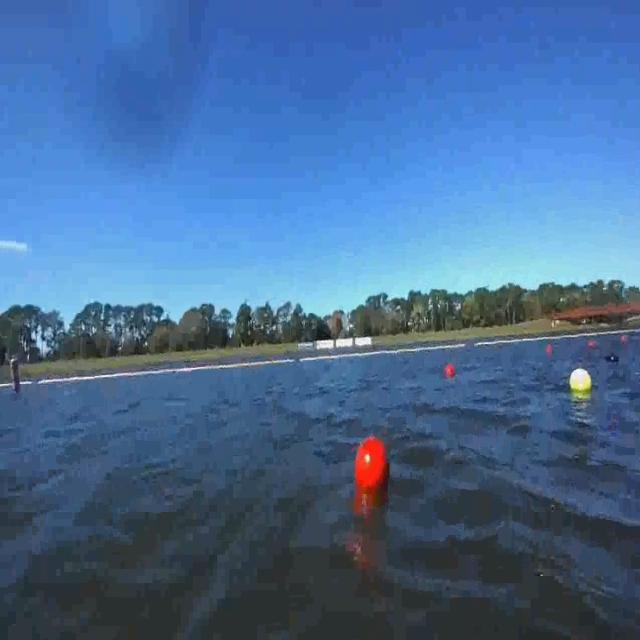black-buoy: (605, 353, 619, 363)
red-buoy: (353, 434, 391, 494), (445, 362, 457, 378), (589, 342, 598, 350), (545, 345, 551, 354)
yellow-buoy: (569, 368, 591, 392)
